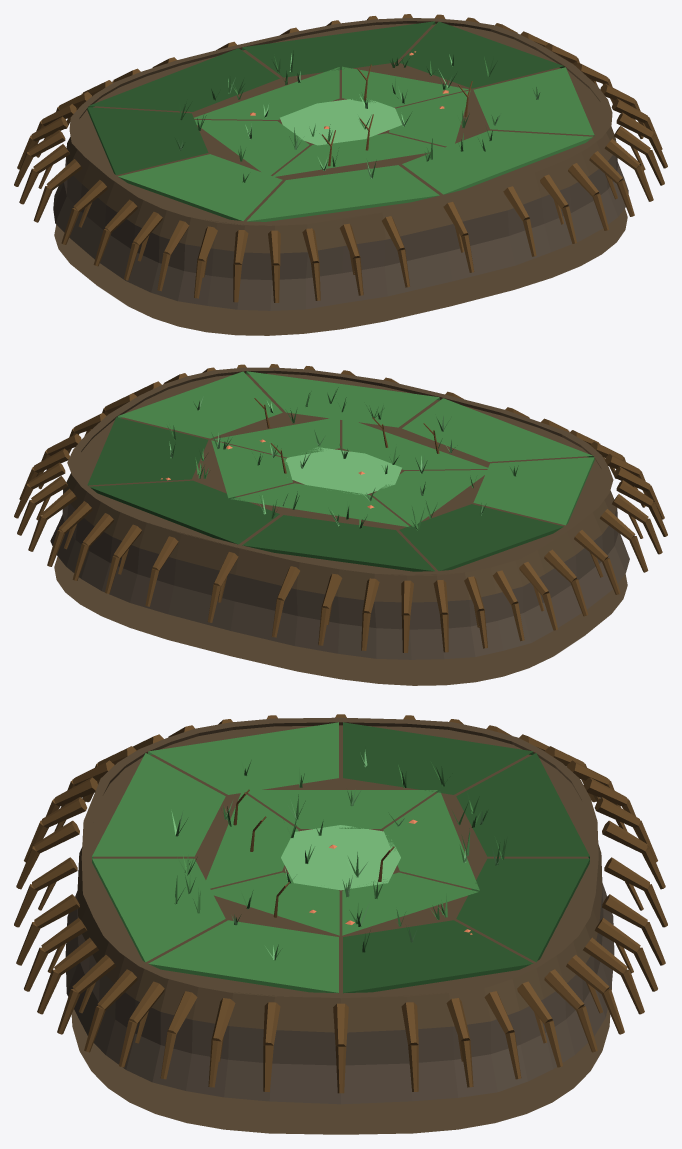
File: MangroveHummock.fbx
3 renders of one model, top to bottom at view 1: azimuth 30°, elevation 25°; view 2: azimuth 150°, elevation 25°; view 3: azimuth 270°, elevation 25°, orthographic. The views are drawn at different scales.
Visible parts, largest first — view 1: MangroveHummock; view 2: MangroveHummock; view 3: MangroveHummock.
Part boxes in pixels (<box>): MangroveHummock: <box>14,14,667,335</box>; MangroveHummock: <box>14,364,667,685</box>; MangroveHummock: <box>14,714,667,1134</box>.
Size of the model in its own units: 2224 by 516 by 1824.
